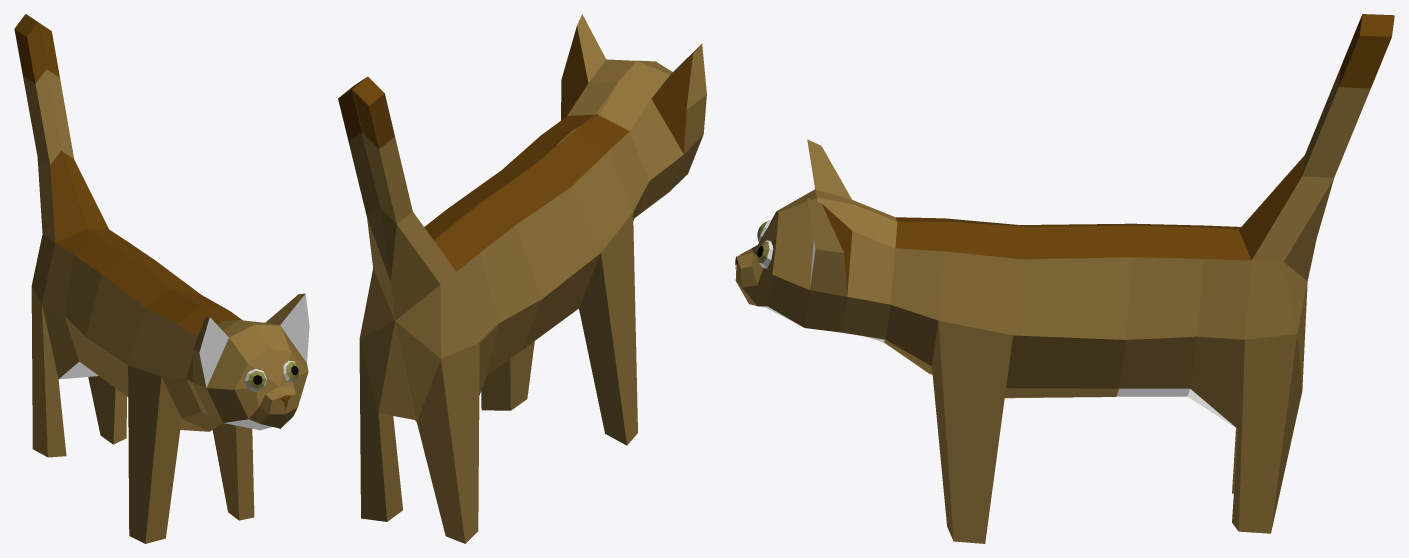
Rendered from cat.fbx.
3 renders of one model, left to right at view 1: azimuth 30°, elevation 25°; view 2: azimuth 150°, elevation 25°; view 3: azimuth 270°, elevation 25°, orthographic. The views are drawn at different scales.
Visible parts, largest first — view 1: Cylinder, Sphere.001; view 2: Cylinder; view 3: Cylinder.
Part boxes in pixels (left/top/right/bottom): Cylinder: left=14, top=14, right=309, bottom=543; Sphere.001: left=245, top=369, right=266, bottom=391; Cylinder: left=338, top=14, right=706, bottom=543; Cylinder: left=735, top=14, right=1394, bottom=543.
Size of the model in its own units: 186 by 720 by 595.
